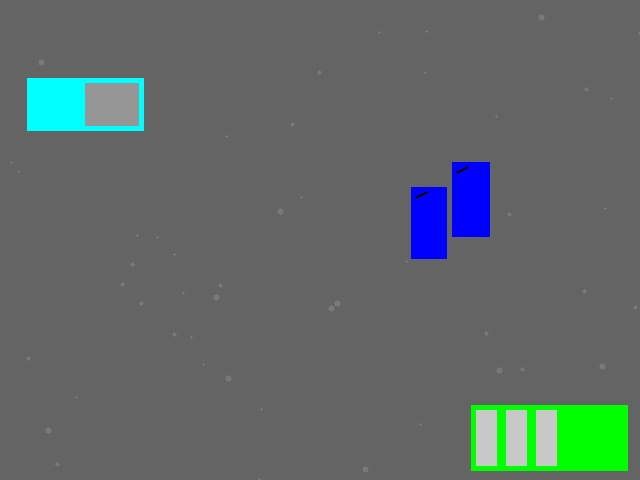bus: (471, 405, 627, 470)
motorcycle: (452, 162, 489, 236), (411, 187, 446, 258)
truck: (27, 78, 143, 130)
